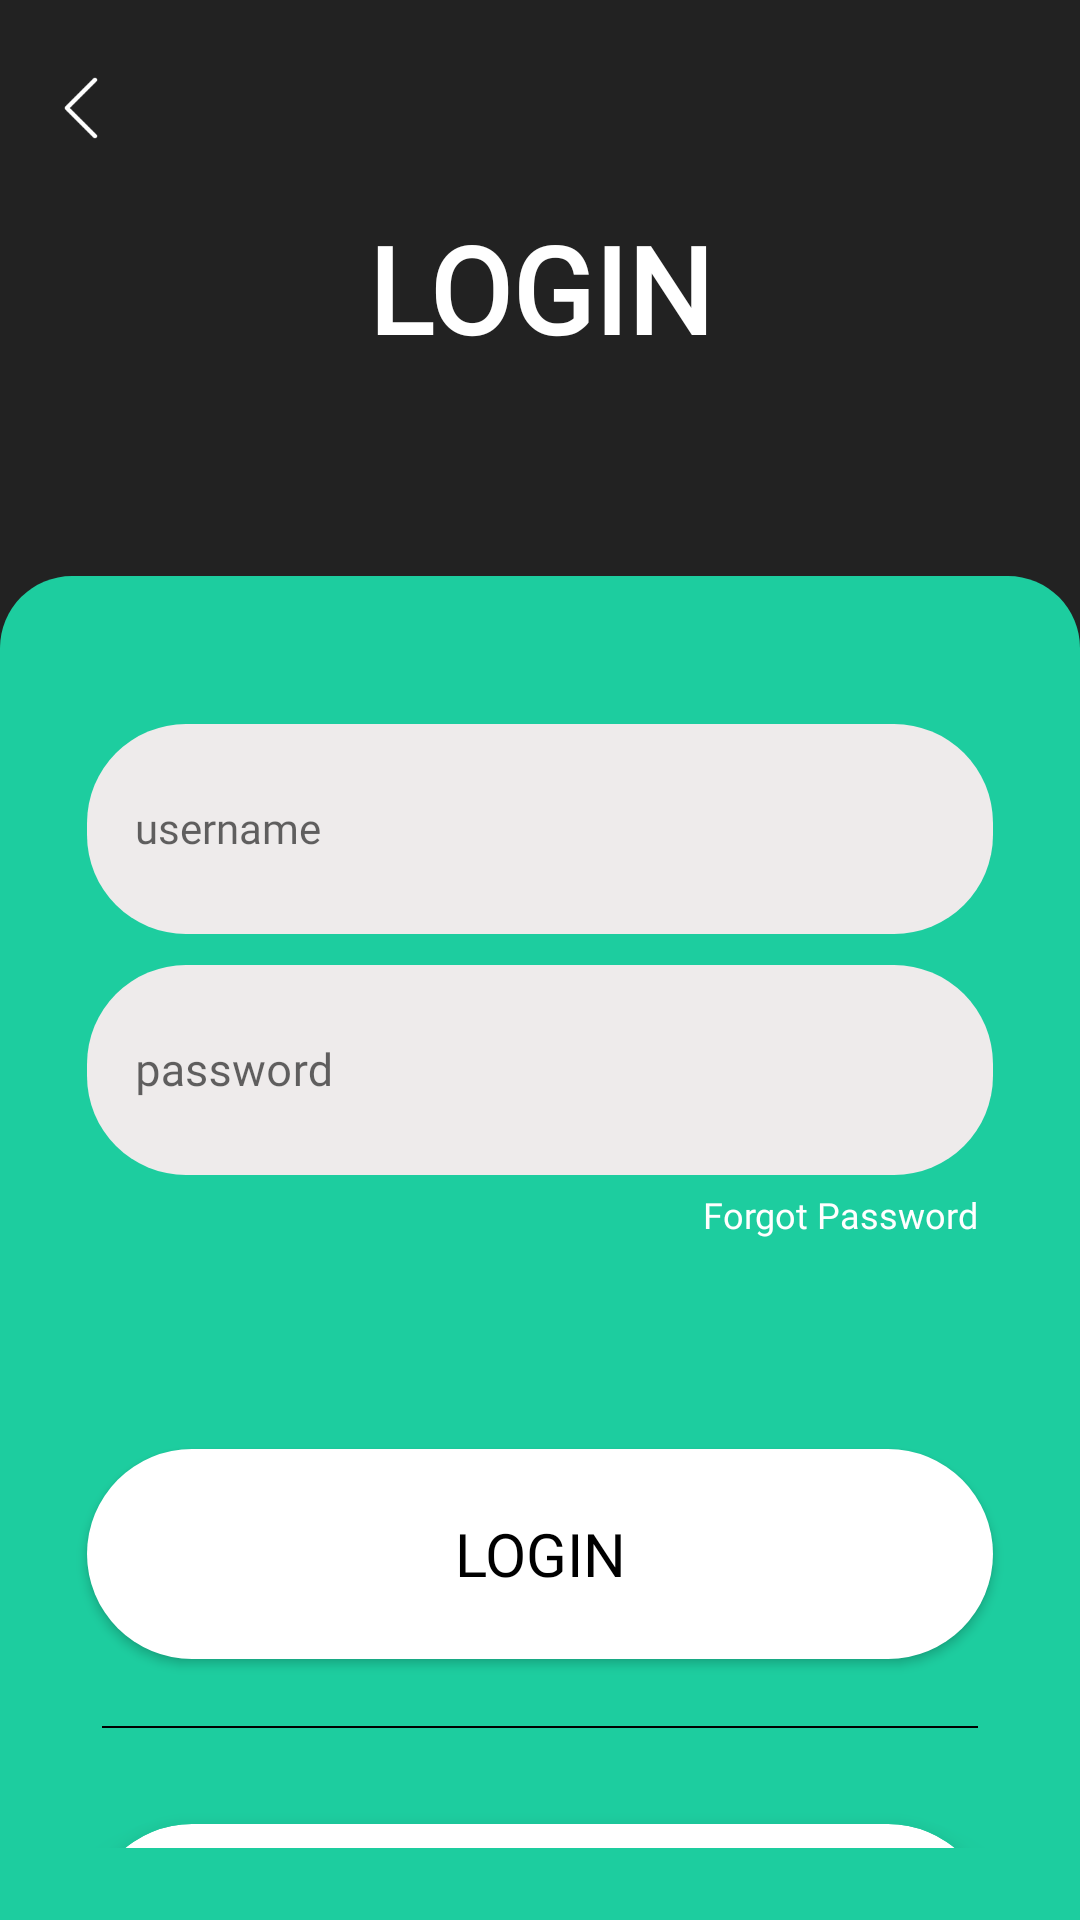

Named icons in this screenshot (1080 x 1920) and their centers, (x=x, y=y):
Back Button: (x=81, y=108)
